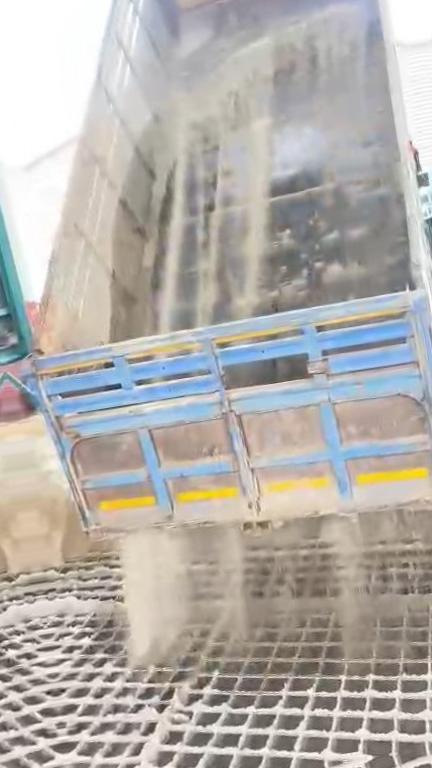sand: (21, 422, 432, 665), (145, 5, 363, 333), (179, 582, 432, 632), (327, 521, 374, 657), (134, 691, 190, 768), (43, 597, 127, 622), (180, 6, 221, 57)
